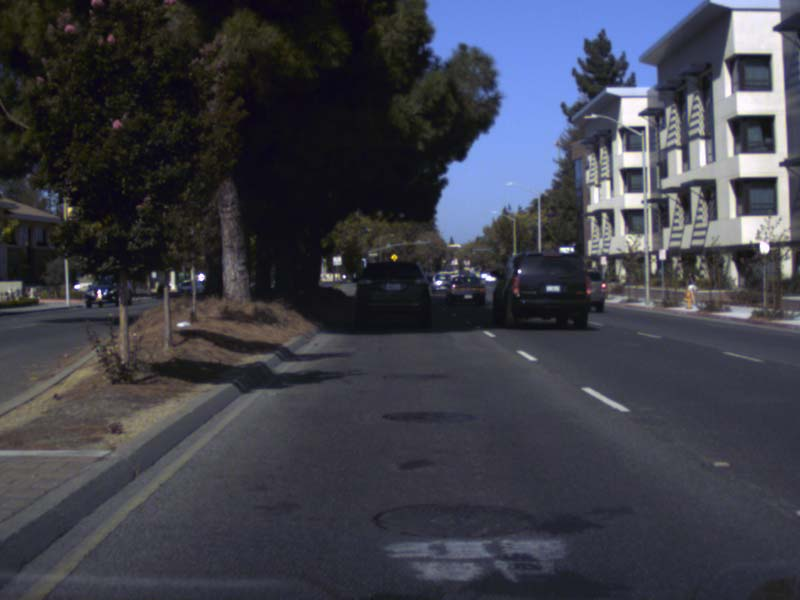Yellow: (388, 251, 398, 261)
